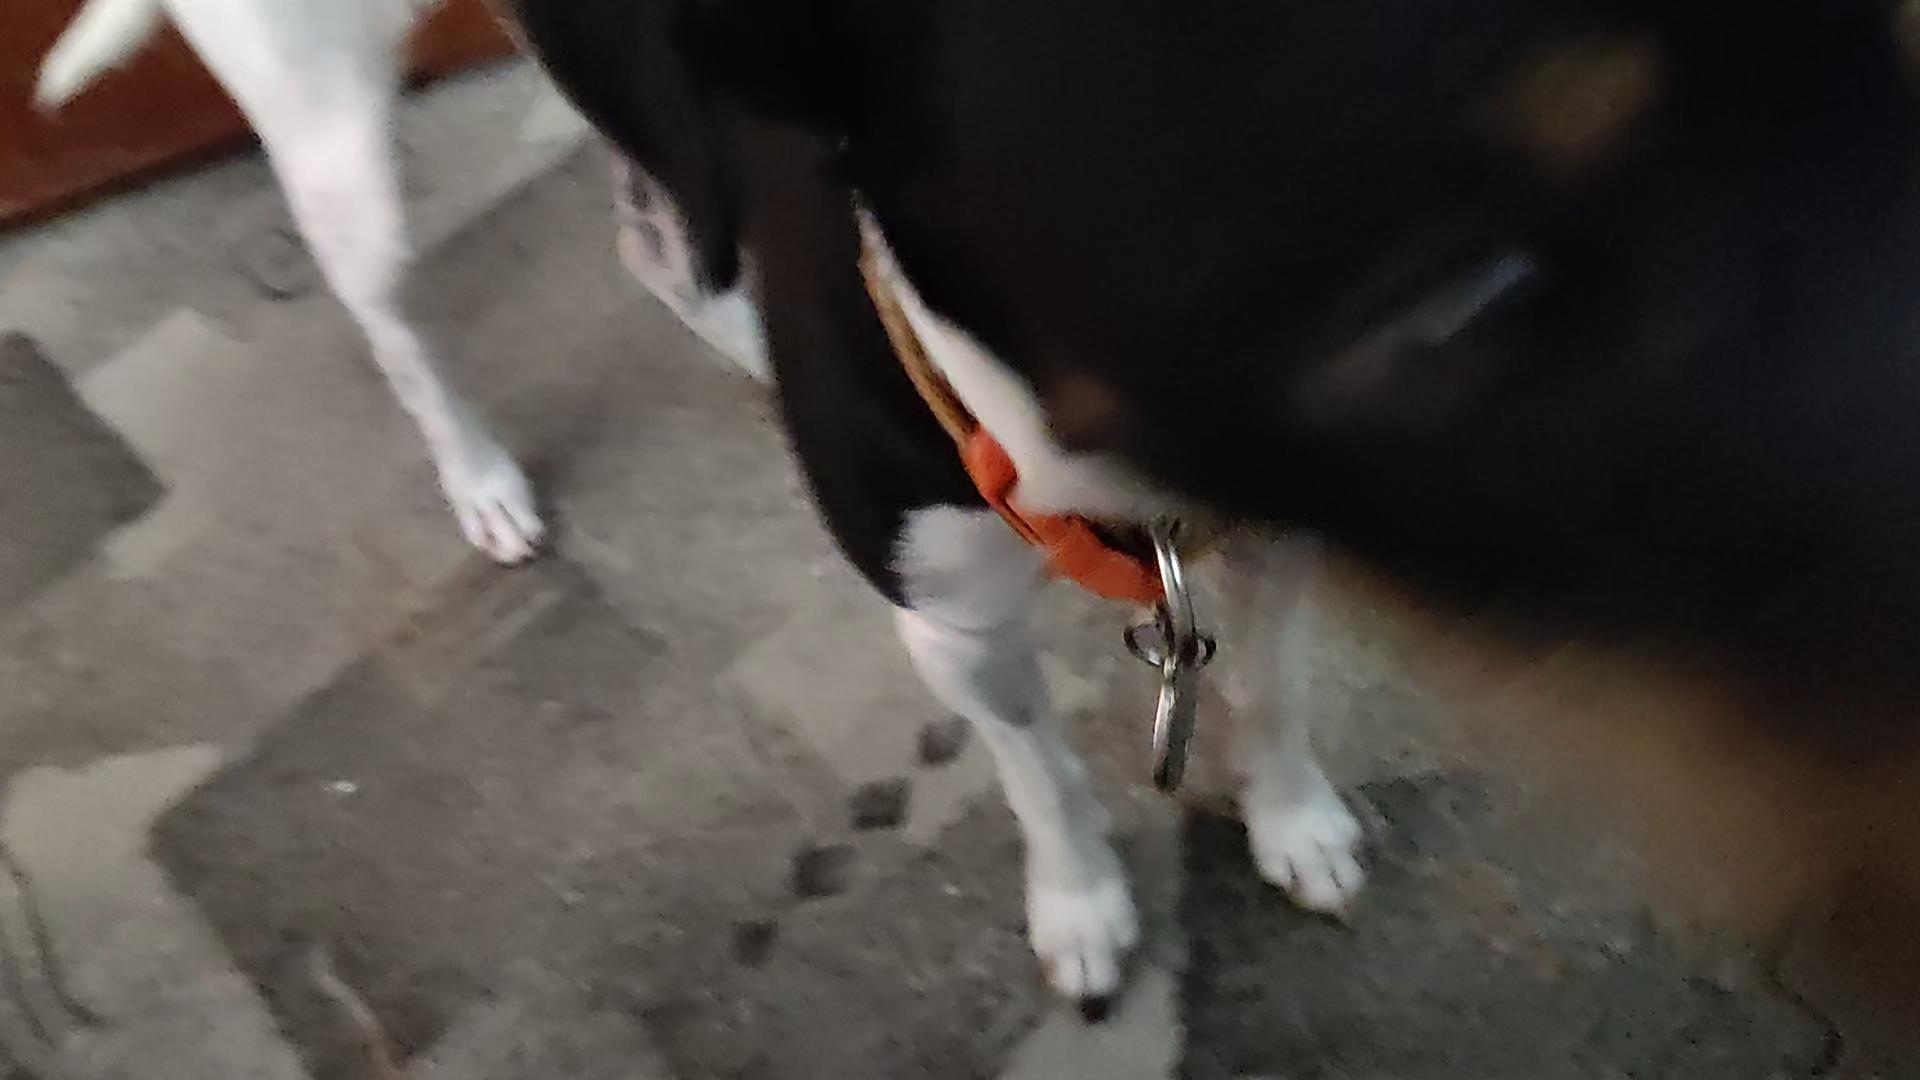Dog: (32, 0, 1919, 1079)
